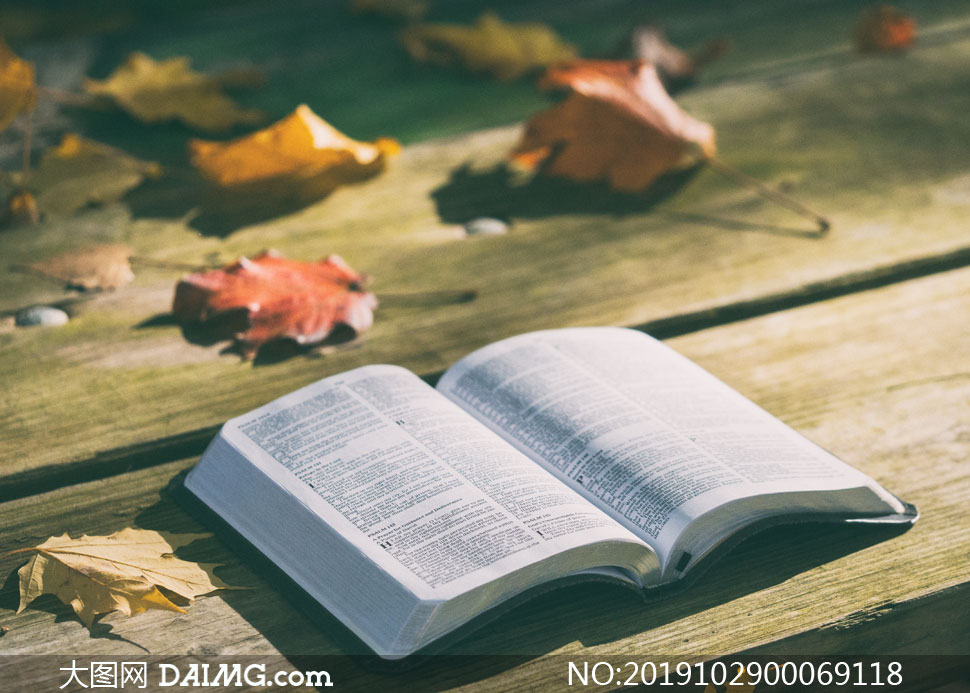book: (143, 293, 935, 672)
